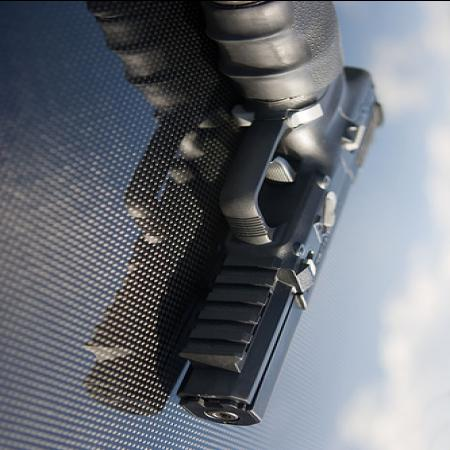Pistol: (123, 3, 393, 425)
